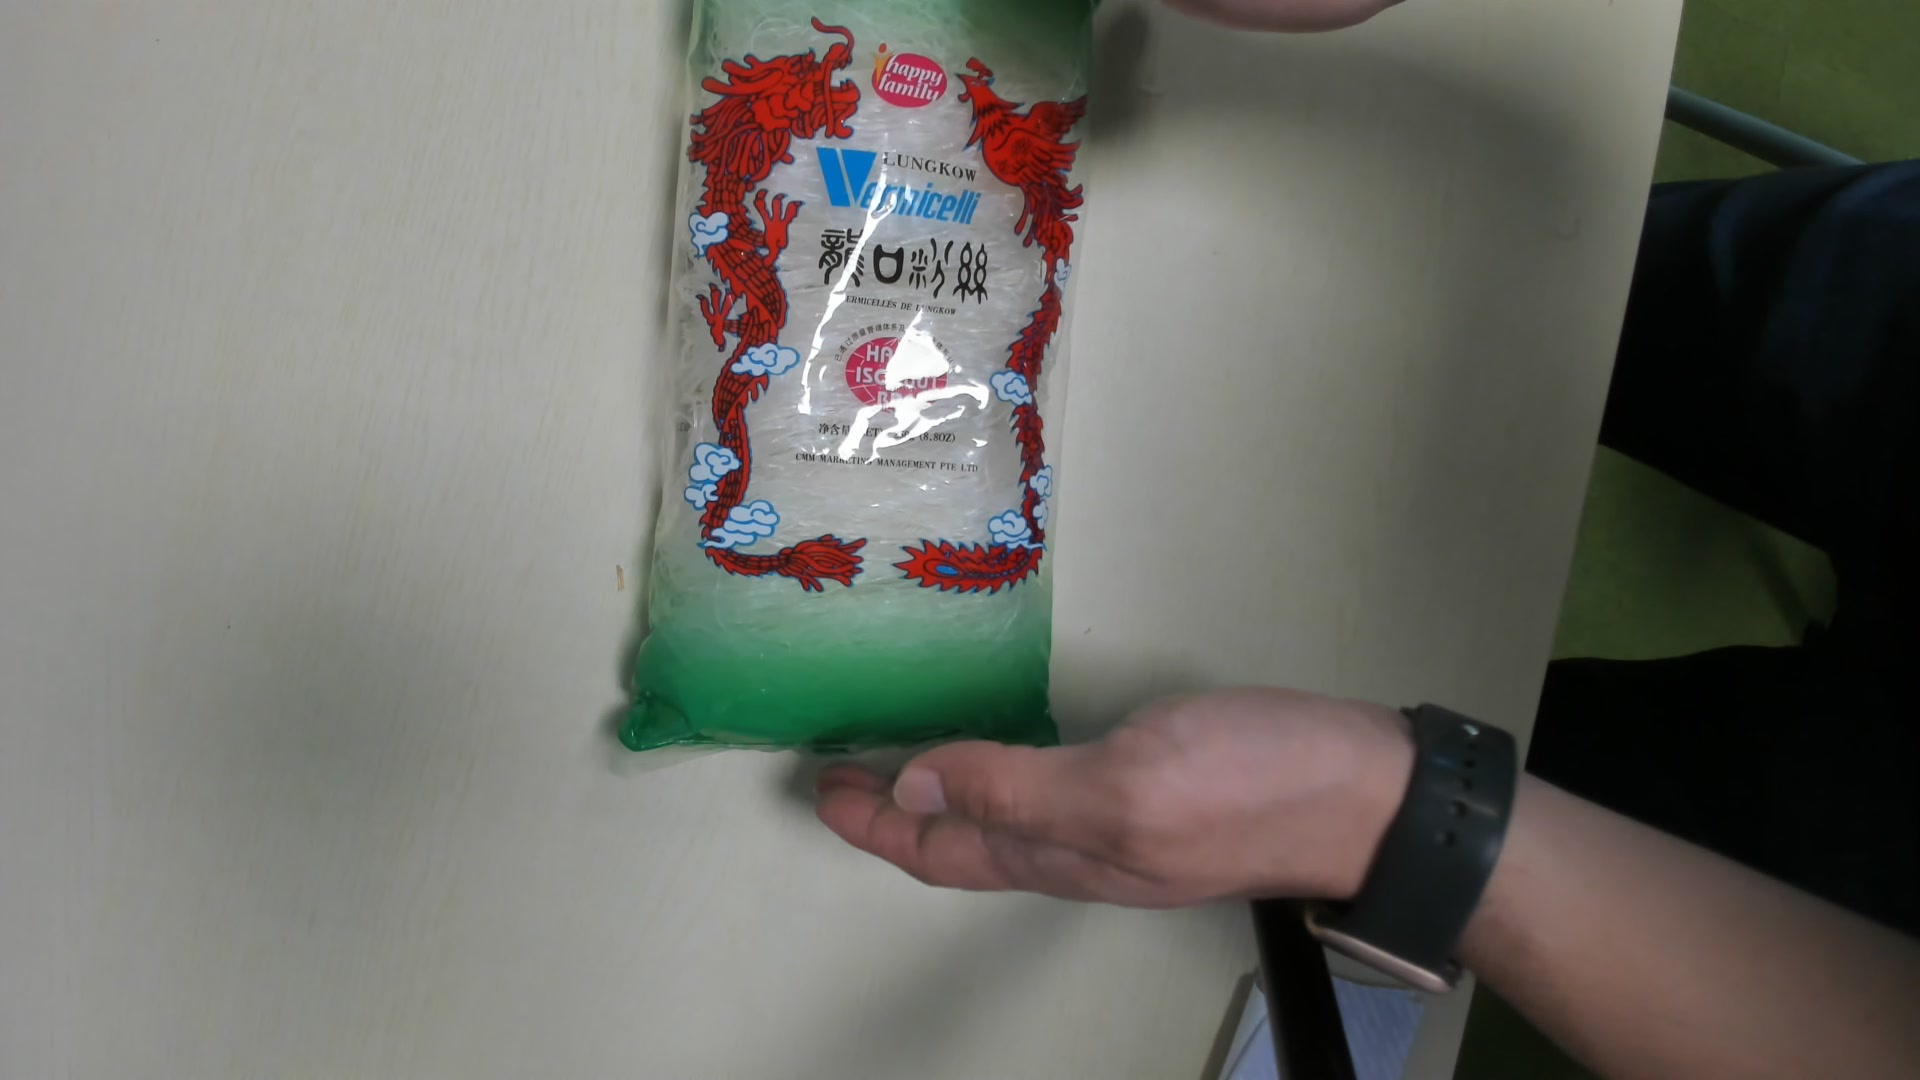BeeHoonVermicelli_200-299g_Halal_NonHealthy: (611, 5, 1098, 749)
